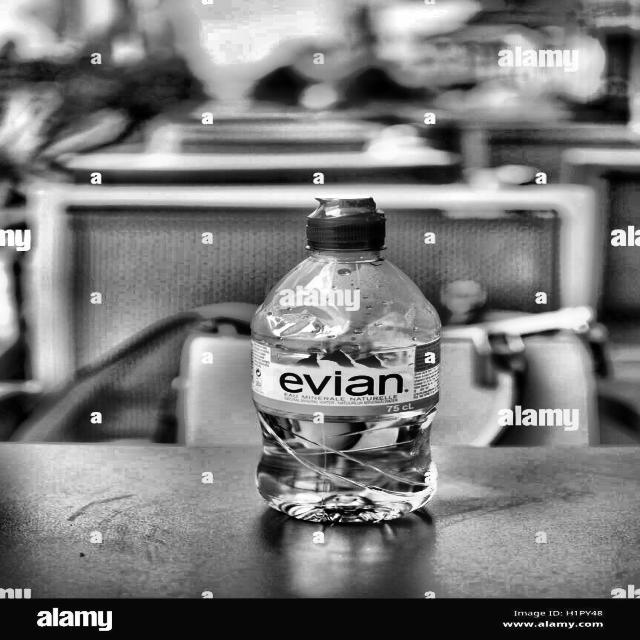waterbottle: (227, 180, 455, 535)
